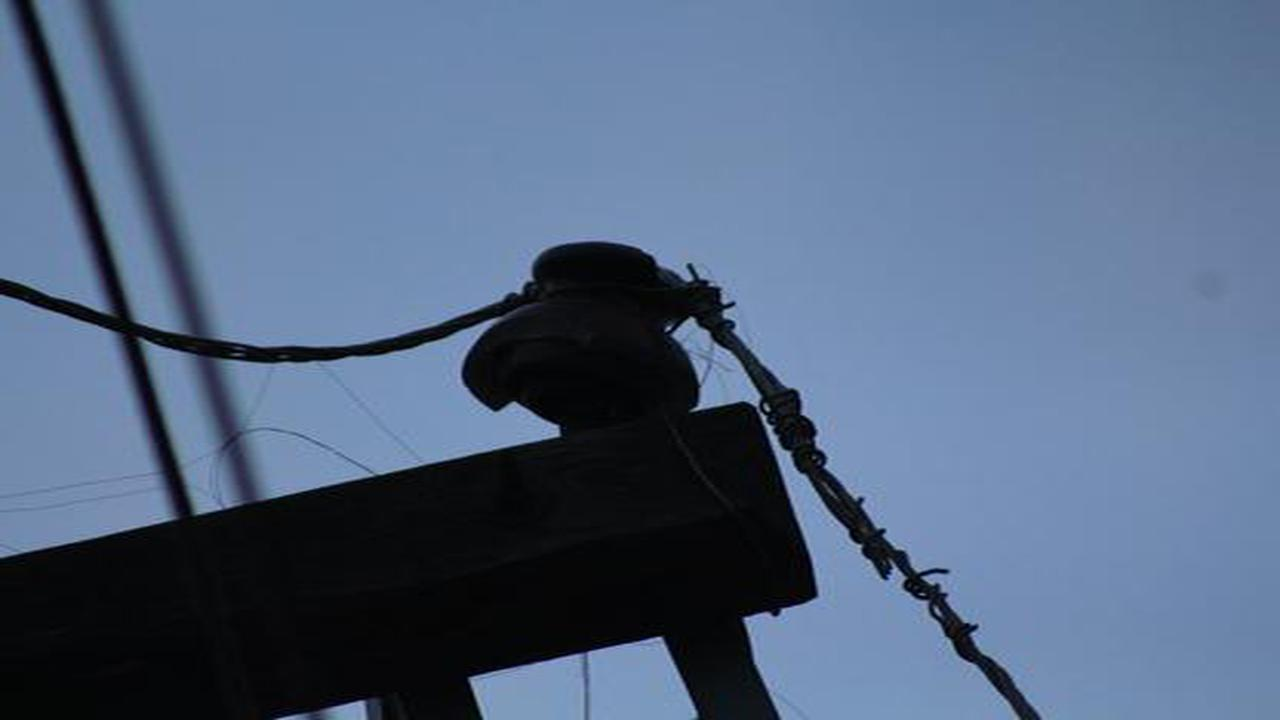defect_pin: (460, 236, 713, 447)
